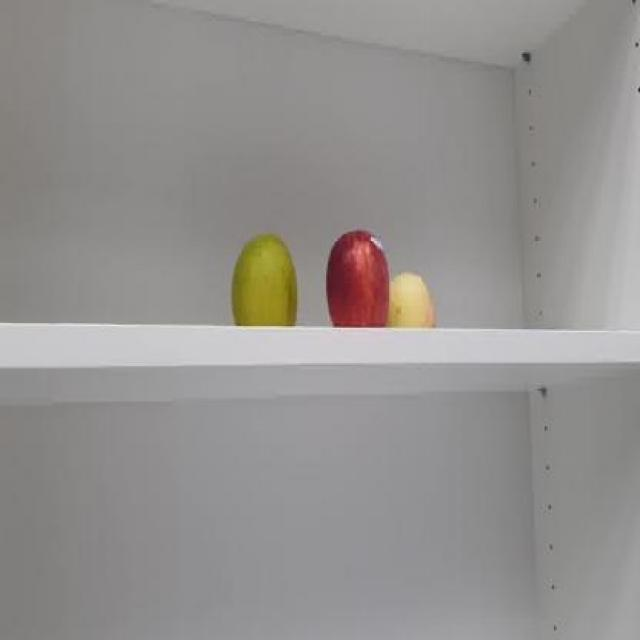Fresh Apple: (225, 231, 302, 337), (316, 231, 393, 337)
